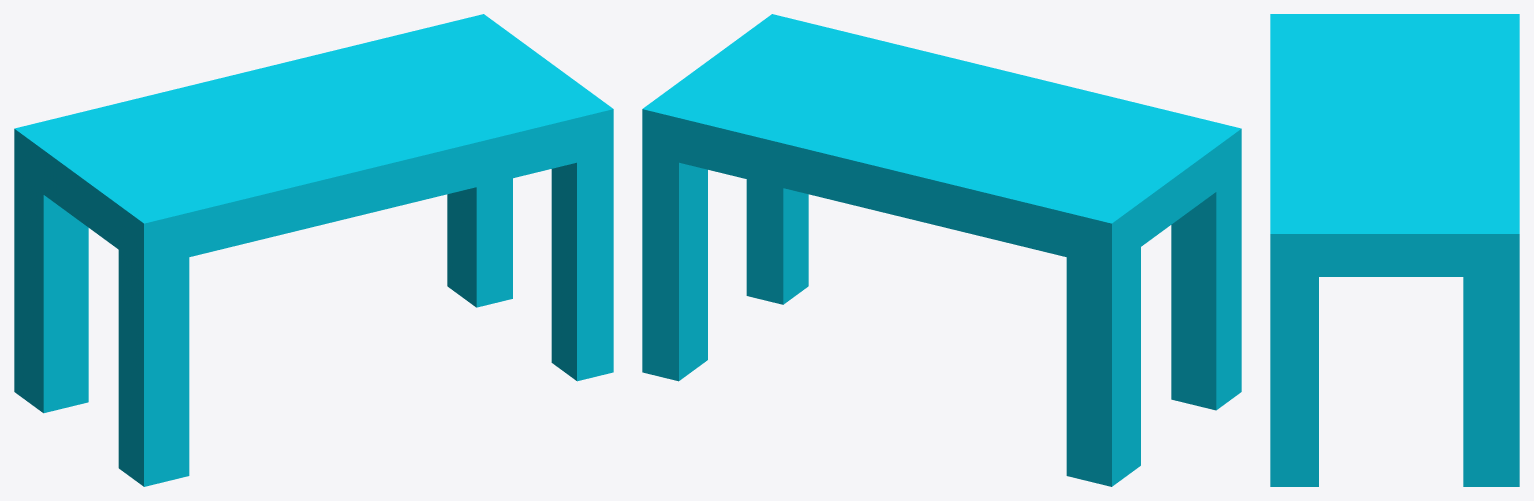
The picture shows the model from 3 angles, left to right: view 1: azimuth 30°, elevation 25°; view 2: azimuth 150°, elevation 25°; view 3: azimuth 270°, elevation 25°; orthographic projection. The views are drawn at different scales.
Visible parts, largest first — view 1: pCube2; view 2: pCube2; view 3: pCube2.
Part boxes in pixels (x1,y1,x2,y2): pCube2: [14, 14, 613, 486]; pCube2: [642, 14, 1241, 486]; pCube2: [1270, 14, 1519, 486].
Size of what is drawn, in the model's own units: 1.91 by 1.02 by 0.9156.
